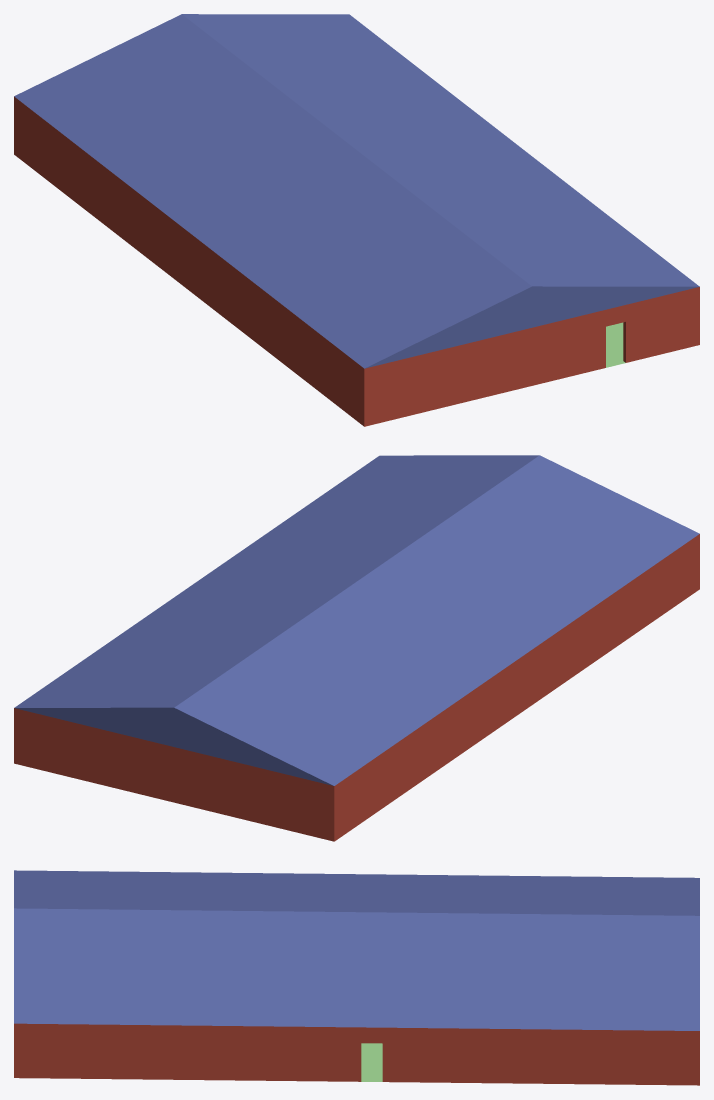
Rendered from por_favor_que_esto_este_bine_de_una_anta_vez.fbx.
3 views of the same model, one above another, from view 1: azimuth 30°, elevation 25°; view 2: azimuth 150°, elevation 25°; view 3: azimuth 270°, elevation 25° (orthographic). The views are drawn at different scales.
Visible parts, largest first — view 1: Model; view 2: Model; view 3: Model.
Boxes of the visible parts, x1=… form: Model: x1=14, y1=14, x2=699, y2=426; Model: x1=14, y1=455, x2=699, y2=841; Model: x1=14, y1=870, x2=699, y2=1085.
Size of the model in its own units: 17.84 by 4.82 by 32.21.
